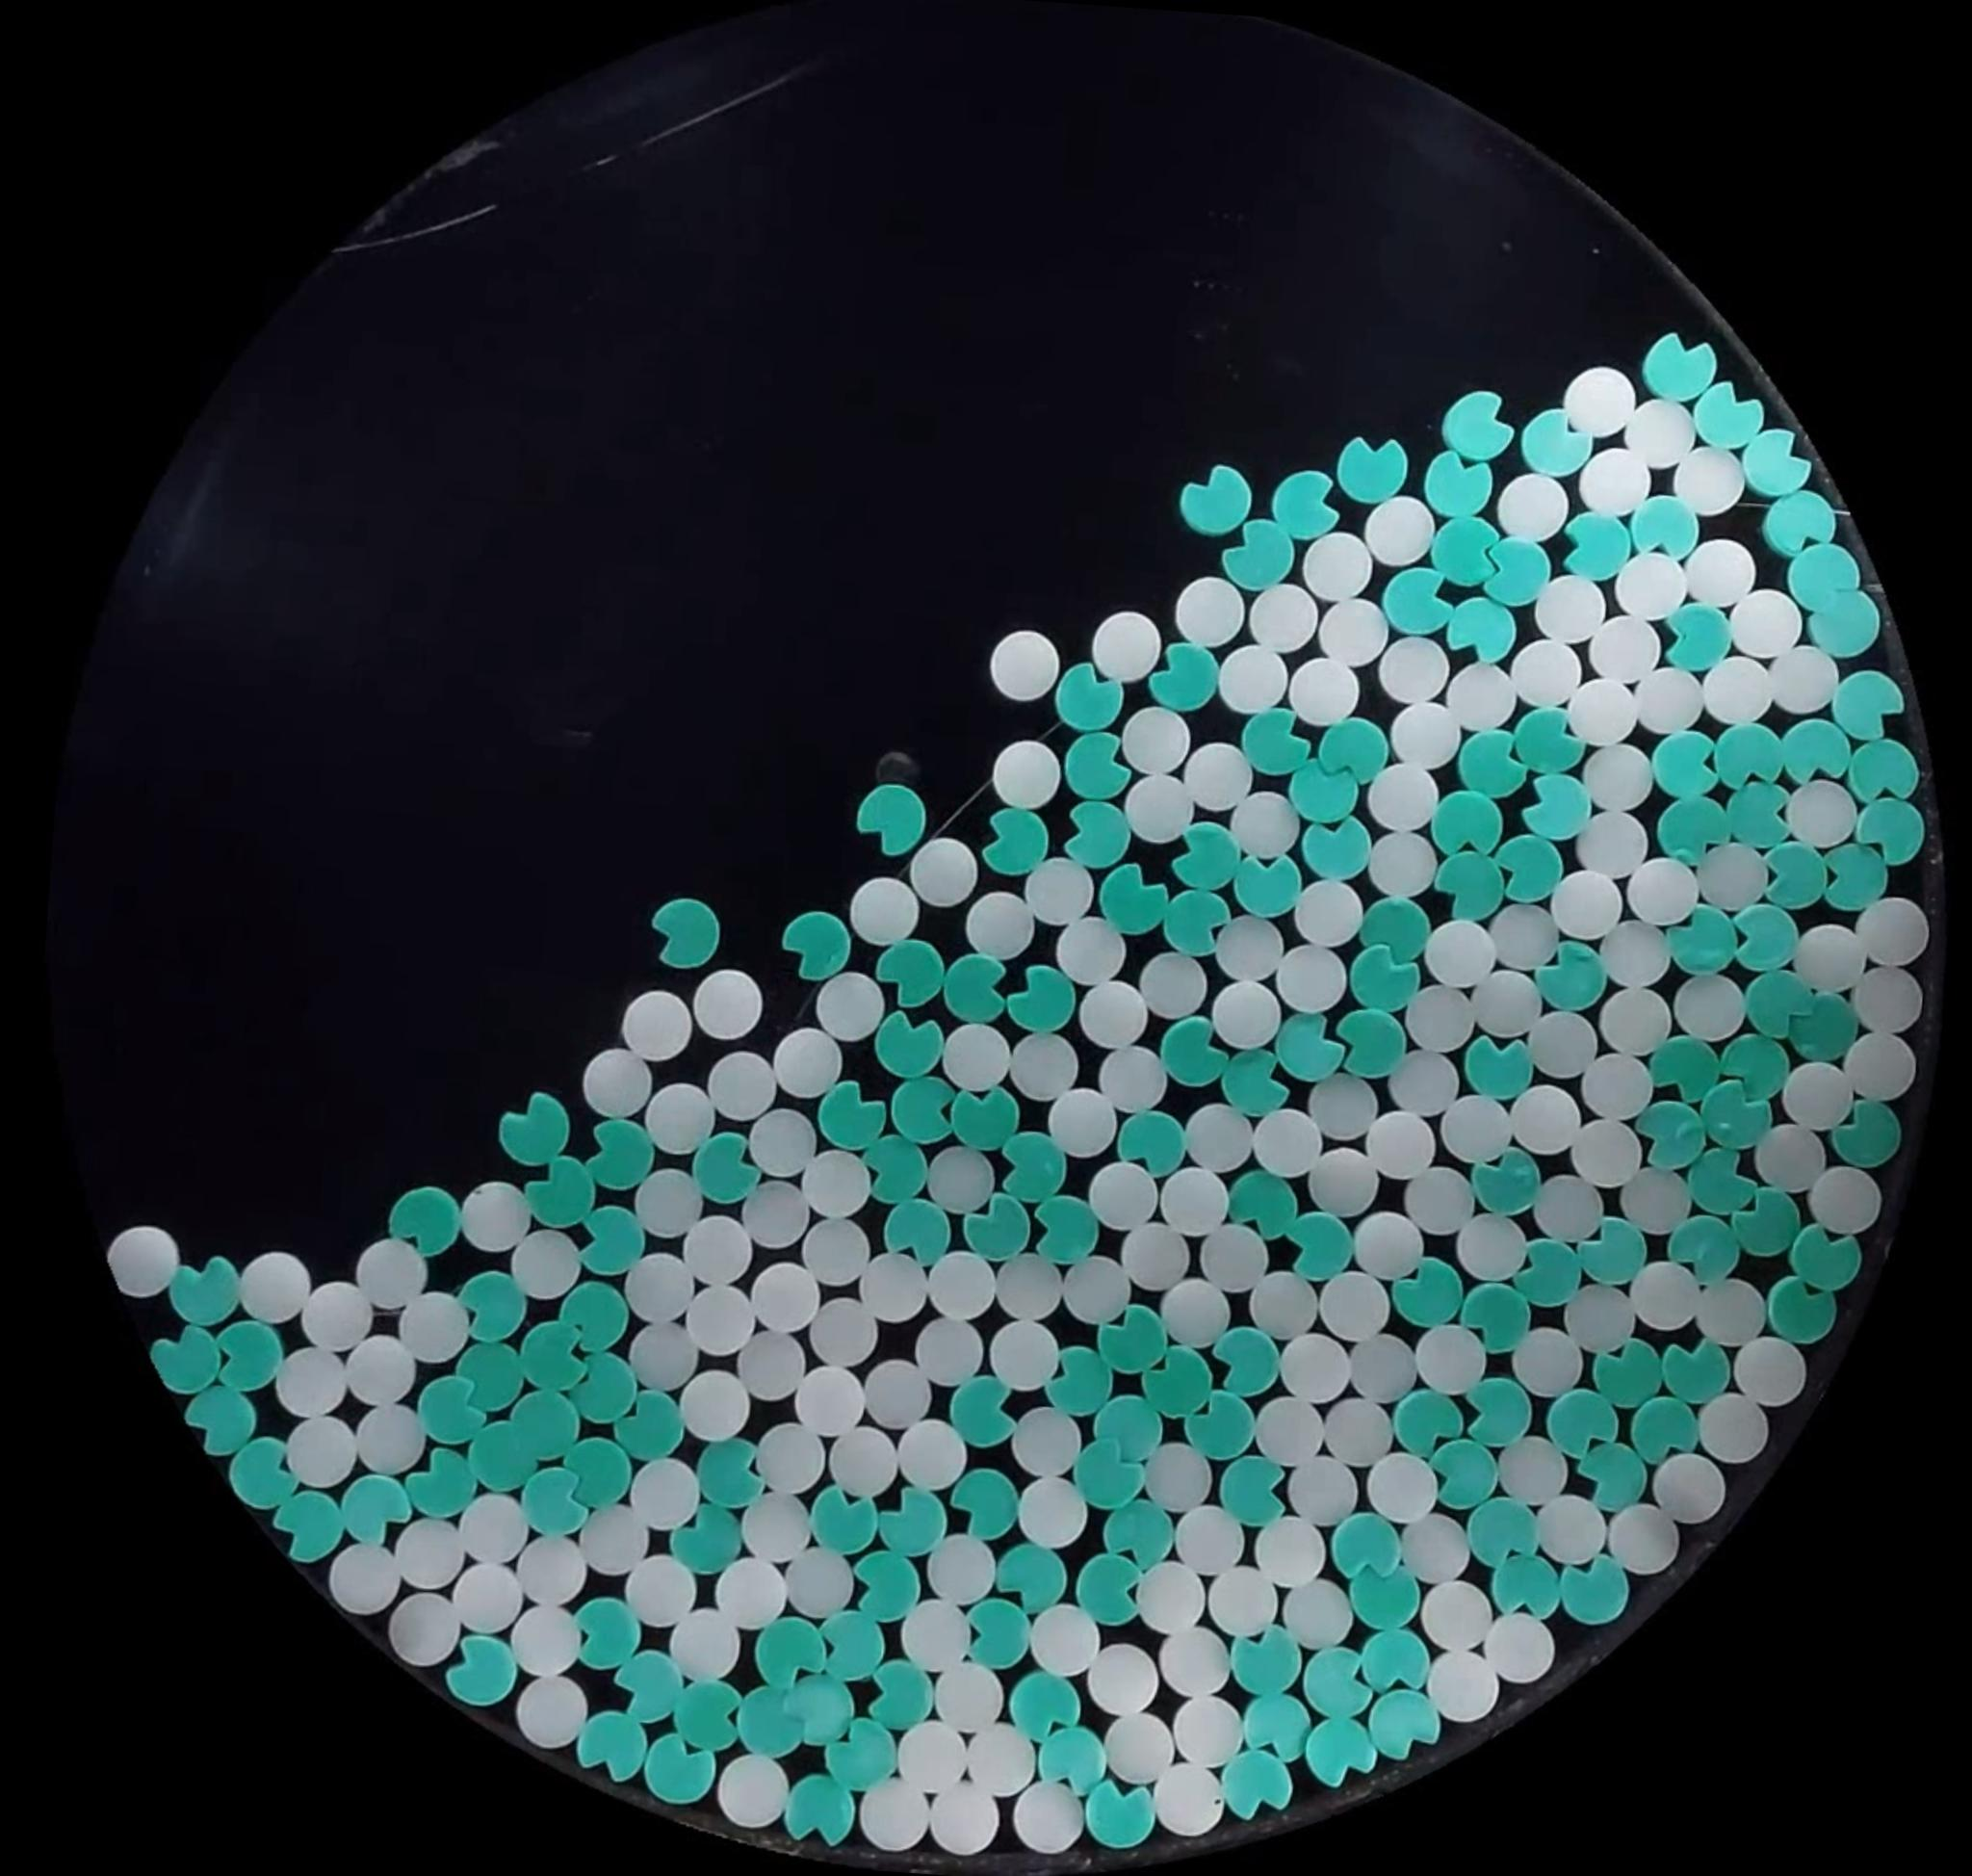no-convexa1: (1530, 1363, 1632, 1473), (1055, 1432, 1174, 1522), (842, 1654, 953, 1746), (1773, 689, 1863, 798), (1745, 830, 1838, 930), (1572, 1413, 1657, 1518), (683, 1423, 775, 1518), (659, 1496, 754, 1587), (1500, 1226, 1592, 1319), (1152, 874, 1245, 965), (1641, 780, 1734, 870), (794, 1481, 893, 1566), (1729, 1166, 1814, 1265), (940, 1462, 1034, 1550), (1474, 828, 1565, 916), (1673, 1140, 1768, 1224), (606, 1374, 688, 1469), (813, 1596, 894, 1691), (1424, 1418, 1498, 1522), (1616, 1388, 1704, 1474), (407, 1369, 489, 1460), (1039, 1333, 1122, 1423), (555, 1430, 644, 1513), (880, 1069, 961, 1161), (940, 1069, 1021, 1161), (1173, 1383, 1264, 1464), (1343, 1617, 1435, 1698), (1377, 1254, 1460, 1342), (553, 1270, 636, 1358), (1213, 1039, 1294, 1129), (613, 1636, 685, 1737), (838, 1548, 923, 1633), (570, 1196, 653, 1281), (1294, 1640, 1379, 1723), (570, 1122, 651, 1208), (1028, 1187, 1106, 1277), (1092, 1381, 1167, 1473), (516, 1309, 592, 1400), (1456, 1367, 1539, 1450), (453, 1263, 526, 1355), (1505, 768, 1593, 844), (1137, 1341, 1210, 1432), (1225, 1622, 1305, 1703), (502, 1388, 581, 1469), (938, 948, 1018, 1029), (1058, 791, 1136, 874), (884, 1189, 961, 1272), (493, 1089, 572, 1168), (1174, 460, 1254, 539), (1785, 539, 1866, 617), (1437, 388, 1518, 465), (678, 1124, 759, 1201), (1208, 1319, 1282, 1404), (859, 1122, 931, 1208), (1389, 1386, 1468, 1464), (1354, 893, 1433, 971), (449, 1339, 528, 1416), (386, 1182, 463, 1261), (1465, 1494, 1542, 1571), (271, 1487, 349, 1564), (1426, 513, 1504, 590), (1329, 1510, 1407, 1587), (1829, 668, 1907, 745), (1826, 1096, 1903, 1173), (1345, 941, 1423, 1018), (1697, 1075, 1775, 1152), (1803, 585, 1882, 661), (852, 780, 928, 860), (1821, 837, 1896, 916), (1734, 965, 1810, 1045), (1507, 705, 1588, 779), (1430, 787, 1507, 863), (993, 1540, 1071, 1615), (1456, 1279, 1532, 1356), (1847, 735, 1924, 810), (1664, 902, 1741, 978), (1430, 847, 1507, 923), (1303, 1712, 1379, 1790), (1081, 1777, 1159, 1853), (1366, 1686, 1444, 1762), (1657, 1333, 1734, 1409), (1218, 516, 1296, 592), (1220, 1746, 1296, 1823), (1717, 1030, 1792, 1108), (1785, 988, 1861, 1066), (521, 1152, 597, 1230), (1097, 863, 1174, 939), (167, 1254, 243, 1332), (1736, 425, 1814, 500), (467, 1416, 542, 1494), (1666, 1212, 1745, 1286), (1639, 331, 1718, 405), (882, 1481, 954, 1562), (1009, 1668, 1085, 1744), (1100, 1496, 1176, 1571), (1282, 1208, 1358, 1284), (576, 1709, 651, 1784), (1660, 599, 1736, 675), (752, 1615, 828, 1691), (1590, 1335, 1666, 1411), (338, 1473, 414, 1548), (403, 1446, 479, 1522), (1467, 1147, 1542, 1222), (1648, 1030, 1724, 1106), (1268, 465, 1343, 541), (567, 1346, 643, 1422), (961, 1594, 1035, 1672), (1852, 793, 1926, 870), (1333, 1006, 1410, 1080), (1347, 1561, 1424, 1635), (1534, 937, 1608, 1015), (648, 895, 722, 972), (1762, 488, 1842, 560), (1713, 719, 1789, 793), (1558, 507, 1634, 581), (1555, 1554, 1630, 1628), (1574, 1214, 1648, 1289), (518, 1462, 592, 1538), (1035, 1723, 1111, 1797), (782, 1673, 856, 1749), (1146, 638, 1220, 713), (1764, 1272, 1838, 1348), (444, 1633, 518, 1709), (1646, 726, 1720, 801), (185, 1383, 261, 1457), (778, 907, 852, 983), (1335, 433, 1410, 507), (1313, 715, 1391, 787), (815, 1078, 887, 1156), (1421, 451, 1498, 523), (1636, 1096, 1708, 1173), (227, 1436, 299, 1513), (1490, 1548, 1564, 1622), (1215, 1453, 1289, 1527), (570, 1596, 644, 1670), (1727, 902, 1801, 976), (784, 1774, 857, 1848), (1229, 1168, 1303, 1242), (875, 935, 949, 1009), (1456, 728, 1530, 801), (1380, 564, 1454, 638), (1240, 1691, 1313, 1765), (1461, 1032, 1535, 1106), (1238, 705, 1313, 777), (947, 1374, 1019, 1450), (1097, 1302, 1169, 1377), (1518, 405, 1593, 477), (213, 1318, 285, 1393), (1072, 1550, 1144, 1626), (1690, 380, 1766, 453), (1787, 1224, 1863, 1296), (960, 1189, 1032, 1265), (644, 1735, 718, 1807), (1004, 962, 1078, 1034), (1171, 821, 1243, 895), (673, 1680, 745, 1754), (1229, 849, 1303, 921), (872, 1008, 946, 1080), (1053, 661, 1125, 735), (151, 1321, 224, 1395), (997, 1126, 1069, 1200), (1157, 1013, 1227, 1089), (1273, 1015, 1349, 1085), (1729, 773, 1799, 849), (979, 805, 1051, 877), (1481, 535, 1553, 608), (1062, 729, 1134, 801), (736, 1688, 808, 1760), (826, 1719, 898, 1791), (1116, 1106, 1188, 1177), (1629, 491, 1701, 562), (1299, 814, 1372, 884), (1287, 759, 1361, 828), (1447, 595, 1519, 664)
